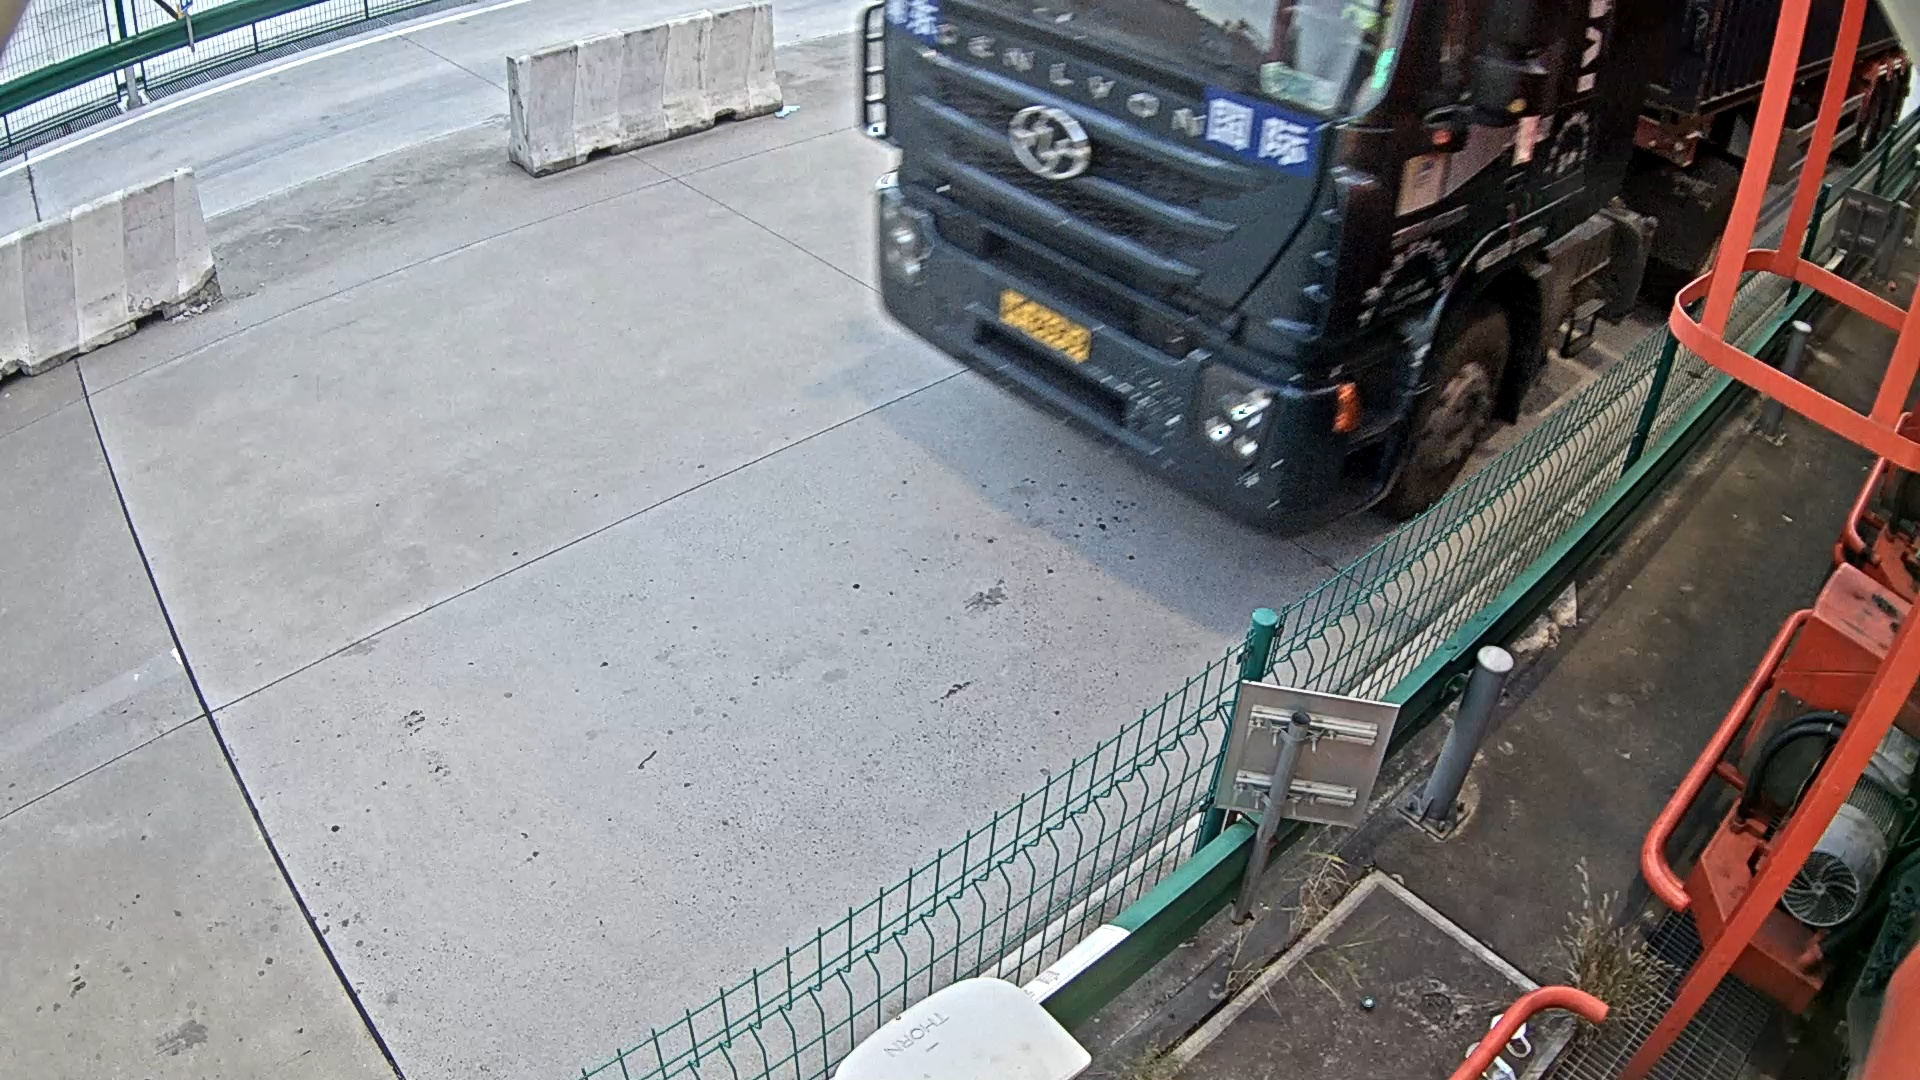head: (862, 14, 1609, 527)
plate: (991, 281, 1116, 373)
